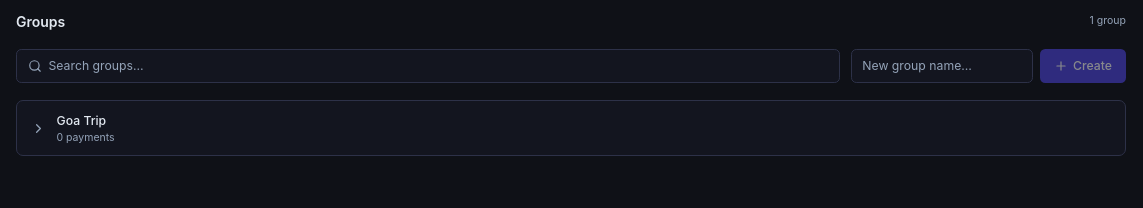
Test: Groups › shows a refused duplicate beside the create field and clears it on typing
Expected: the text "Goa Trip" is shown, [56,112,106,129]
Type "goa trip" into the field with placeholder "New group name…" at (942, 66), box [851,49,1033,82]
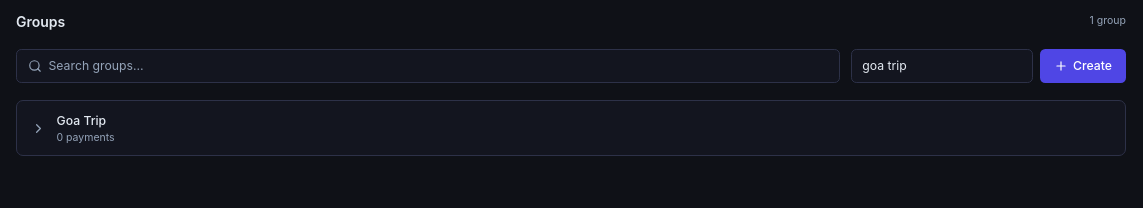
Click the button "Create" at (1083, 66), box [1040,49,1126,82]
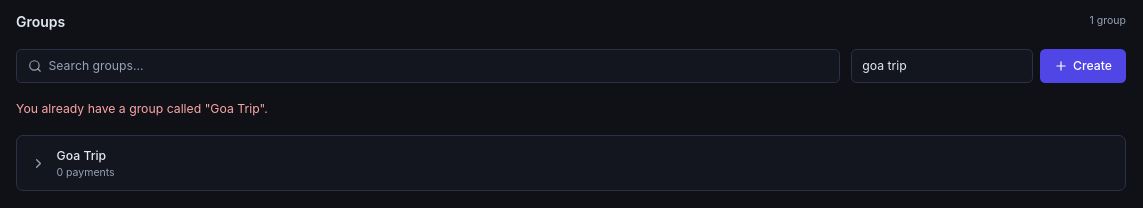
Expected: the message reads "You already have a group called \"Goa Trip\".", [16,101,268,116]
Replace the text in the field with placeholder "New group name…" with "goa trip 2" at (942, 66), box [851,49,1033,82]
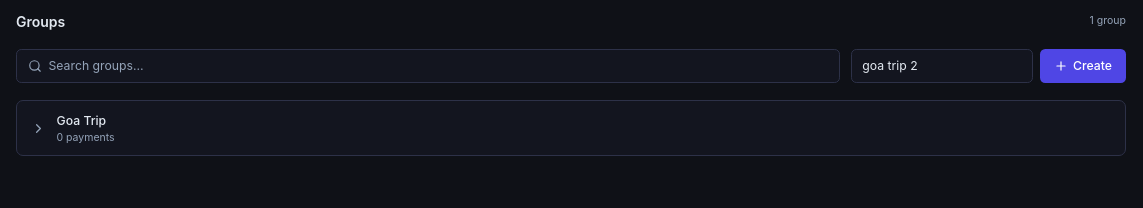
Expected: the message "You already have a group called \"Goa Trip\"." is gone
